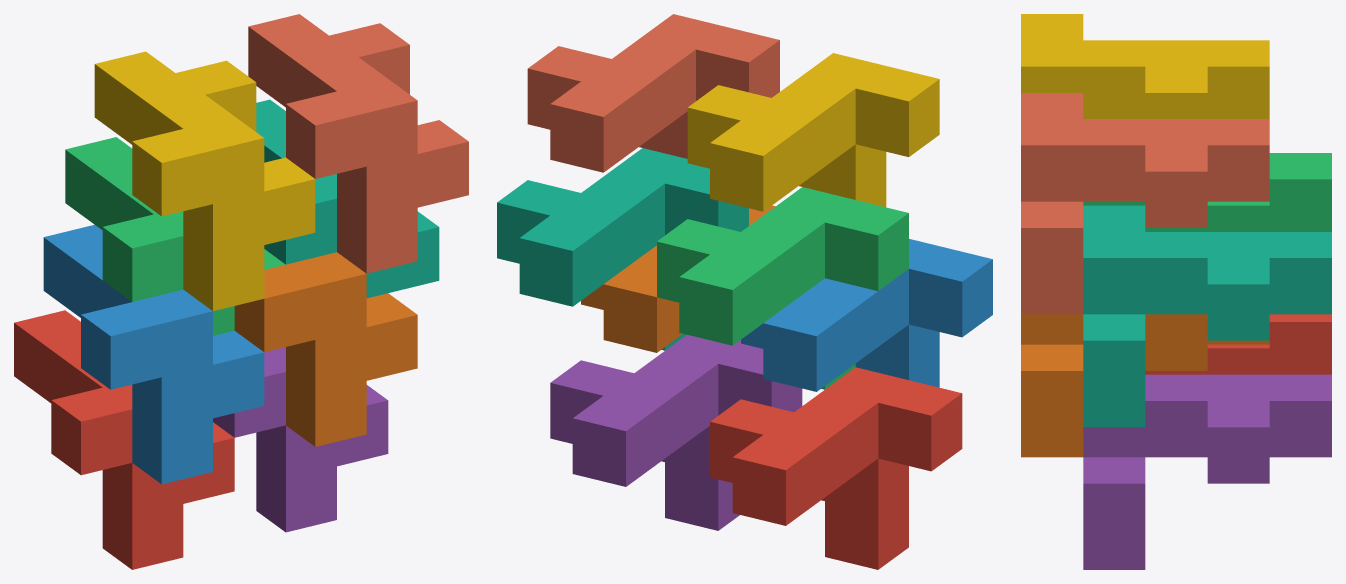
File: tiling.obj
The picture shows the model from 3 angles, left to right: view 1: azimuth 30°, elevation 25°; view 2: azimuth 150°, elevation 25°; view 3: azimuth 270°, elevation 25°; orthographic projection. The views are drawn at different scales.
Visible parts, largest first — view 1: copy_1_domain_4, copy_1_domain_8, copy_1_domain_2, copy_1_domain_6, copy_1_domain_1, copy_1_domain_3, copy_1_domain_5, copy_1_domain_7; view 2: copy_1_domain_1, copy_1_domain_4, copy_1_domain_5, copy_1_domain_3, copy_1_domain_8, copy_1_domain_2, copy_1_domain_7, copy_1_domain_6; view 3: copy_1_domain_7, copy_1_domain_8, copy_1_domain_5, copy_1_domain_4, copy_1_domain_6, copy_1_domain_3, copy_1_domain_1.
Boxes of the visible parts, x1=… form: copy_1_domain_4: x1=94, y1=51, x2=315, y2=310; copy_1_domain_8: x1=248, y1=14, x2=468, y2=273; copy_1_domain_2: x1=43, y1=224, x2=264, y2=484; copy_1_domain_6: x1=234, y1=252, x2=417, y2=446; copy_1_domain_1: x1=14, y1=310, x2=234, y2=569; copy_1_domain_3: x1=65, y1=137, x2=285, y2=335; copy_1_domain_5: x1=213, y1=347, x2=388, y2=532; copy_1_domain_7: x1=256, y1=99, x2=439, y2=298; copy_1_domain_1: x1=710, y1=367, x2=962, y2=569; copy_1_domain_4: x1=687, y1=53, x2=939, y2=211; copy_1_domain_5: x1=550, y1=334, x2=802, y2=530; copy_1_domain_3: x1=657, y1=187, x2=908, y2=389; copy_1_domain_8: x1=527, y1=14, x2=779, y2=172; copy_1_domain_2: x1=741, y1=239, x2=992, y2=391; copy_1_domain_7: x1=497, y1=148, x2=748, y2=350; copy_1_domain_6: x1=581, y1=205, x2=775, y2=352; copy_1_domain_7: x1=1083, y1=205, x2=1331, y2=427; copy_1_domain_8: x1=1021, y1=93, x2=1269, y2=314; copy_1_domain_5: x1=1083, y1=374, x2=1331, y2=569; copy_1_domain_4: x1=1021, y1=14, x2=1269, y2=118; copy_1_domain_6: x1=1021, y1=314, x2=1269, y2=457; copy_1_domain_3: x1=1083, y1=153, x2=1331, y2=231; copy_1_domain_1: x1=1145, y1=314, x2=1331, y2=374.
Bounding box in the file's own units: 7 × 8 × 5.
